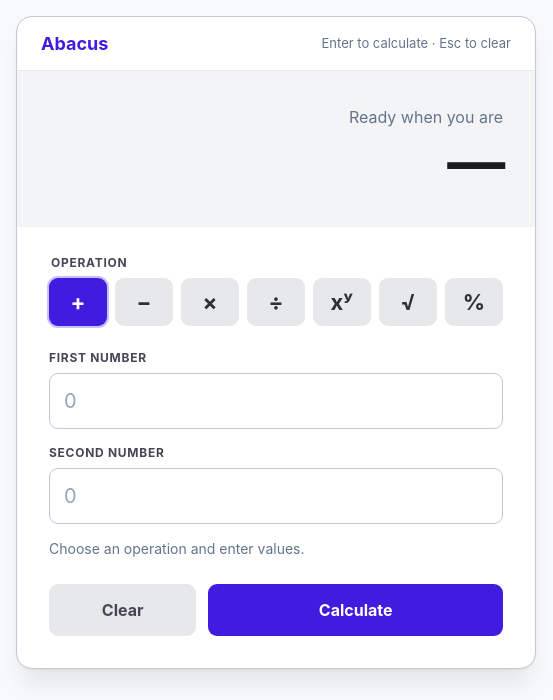
Test: Calculator › switches to a unary square-root layout with one click
Expected: the button named "Addition" is shown, [49, 278, 107, 326]
Click the button named "Square Root". click: [408, 302]
box: [379, 278, 437, 326]
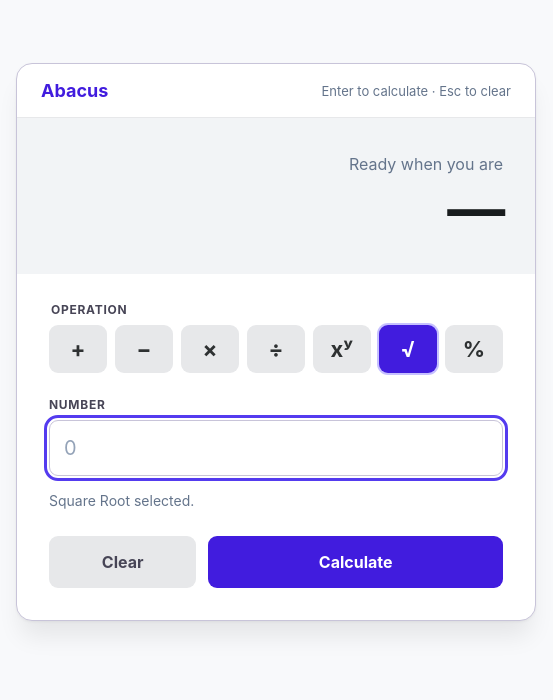
Expected: the field labelled "Number" is shown, [49, 420, 503, 476]
Expected: the text "Second number" is gone
